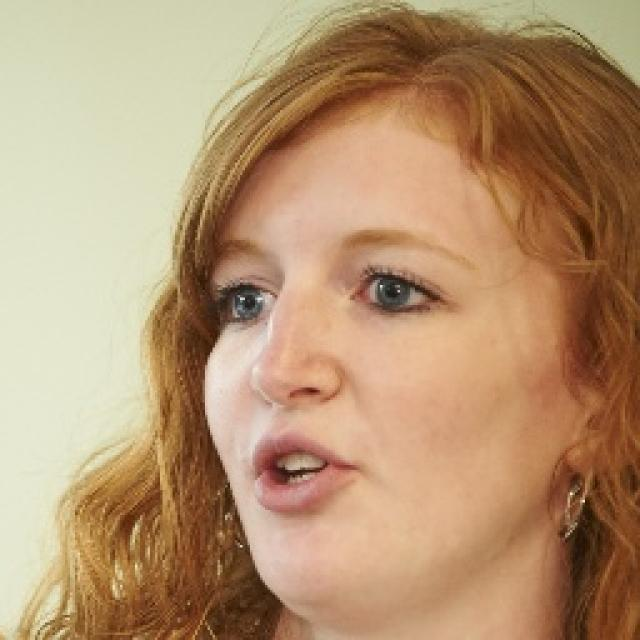earlobe: (567, 421, 617, 477)
eye: (355, 272, 441, 314), (223, 282, 274, 323)
nose: (259, 386, 336, 432)
